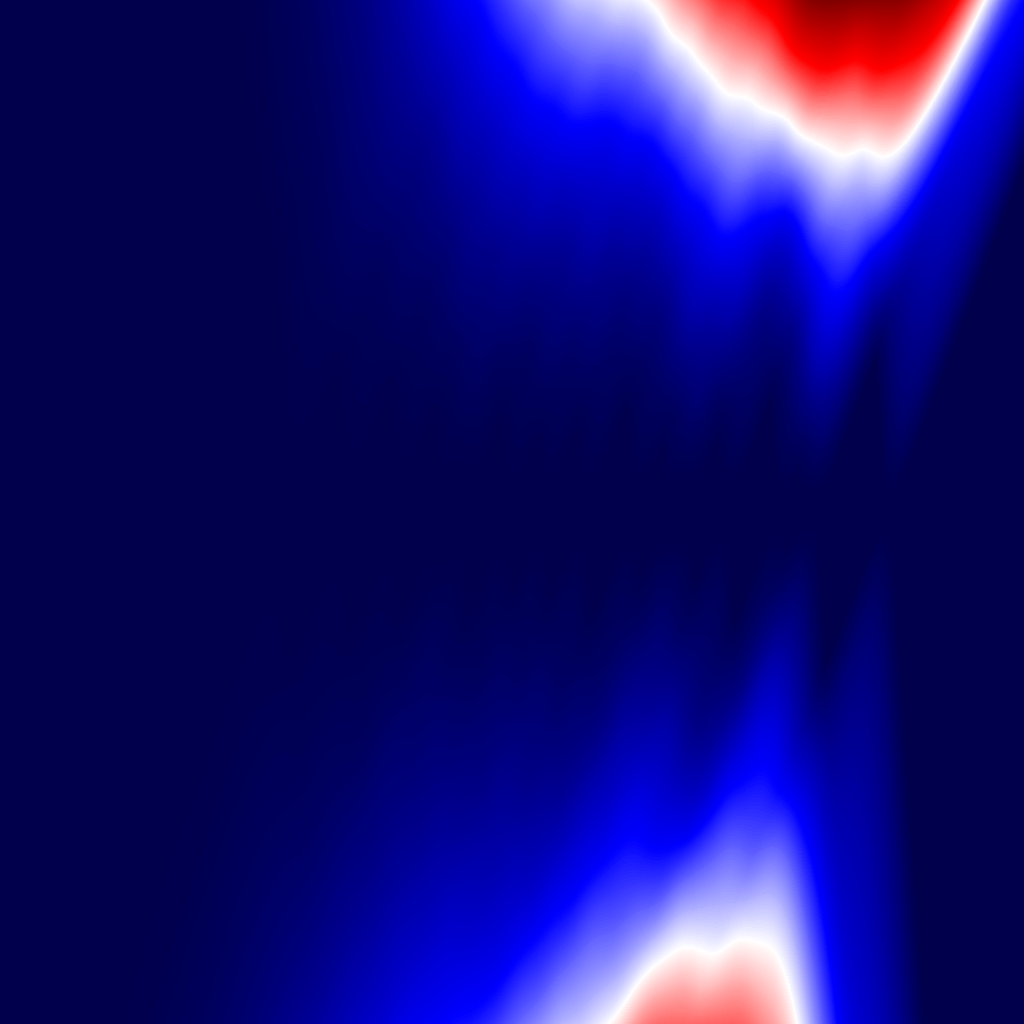diamond: (175, 264, 288, 760), (807, 326, 891, 698), (289, 385, 346, 639), (729, 392, 783, 632), (347, 400, 398, 624), (586, 400, 637, 624), (398, 407, 446, 617), (466, 416, 509, 608), (547, 426, 586, 598), (691, 430, 728, 594), (511, 432, 547, 592), (783, 438, 816, 586), (638, 439, 671, 585), (446, 469, 466, 555), (671, 470, 690, 554)
